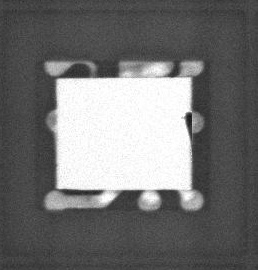DIE_BROKEN: (183, 109, 192, 141)
